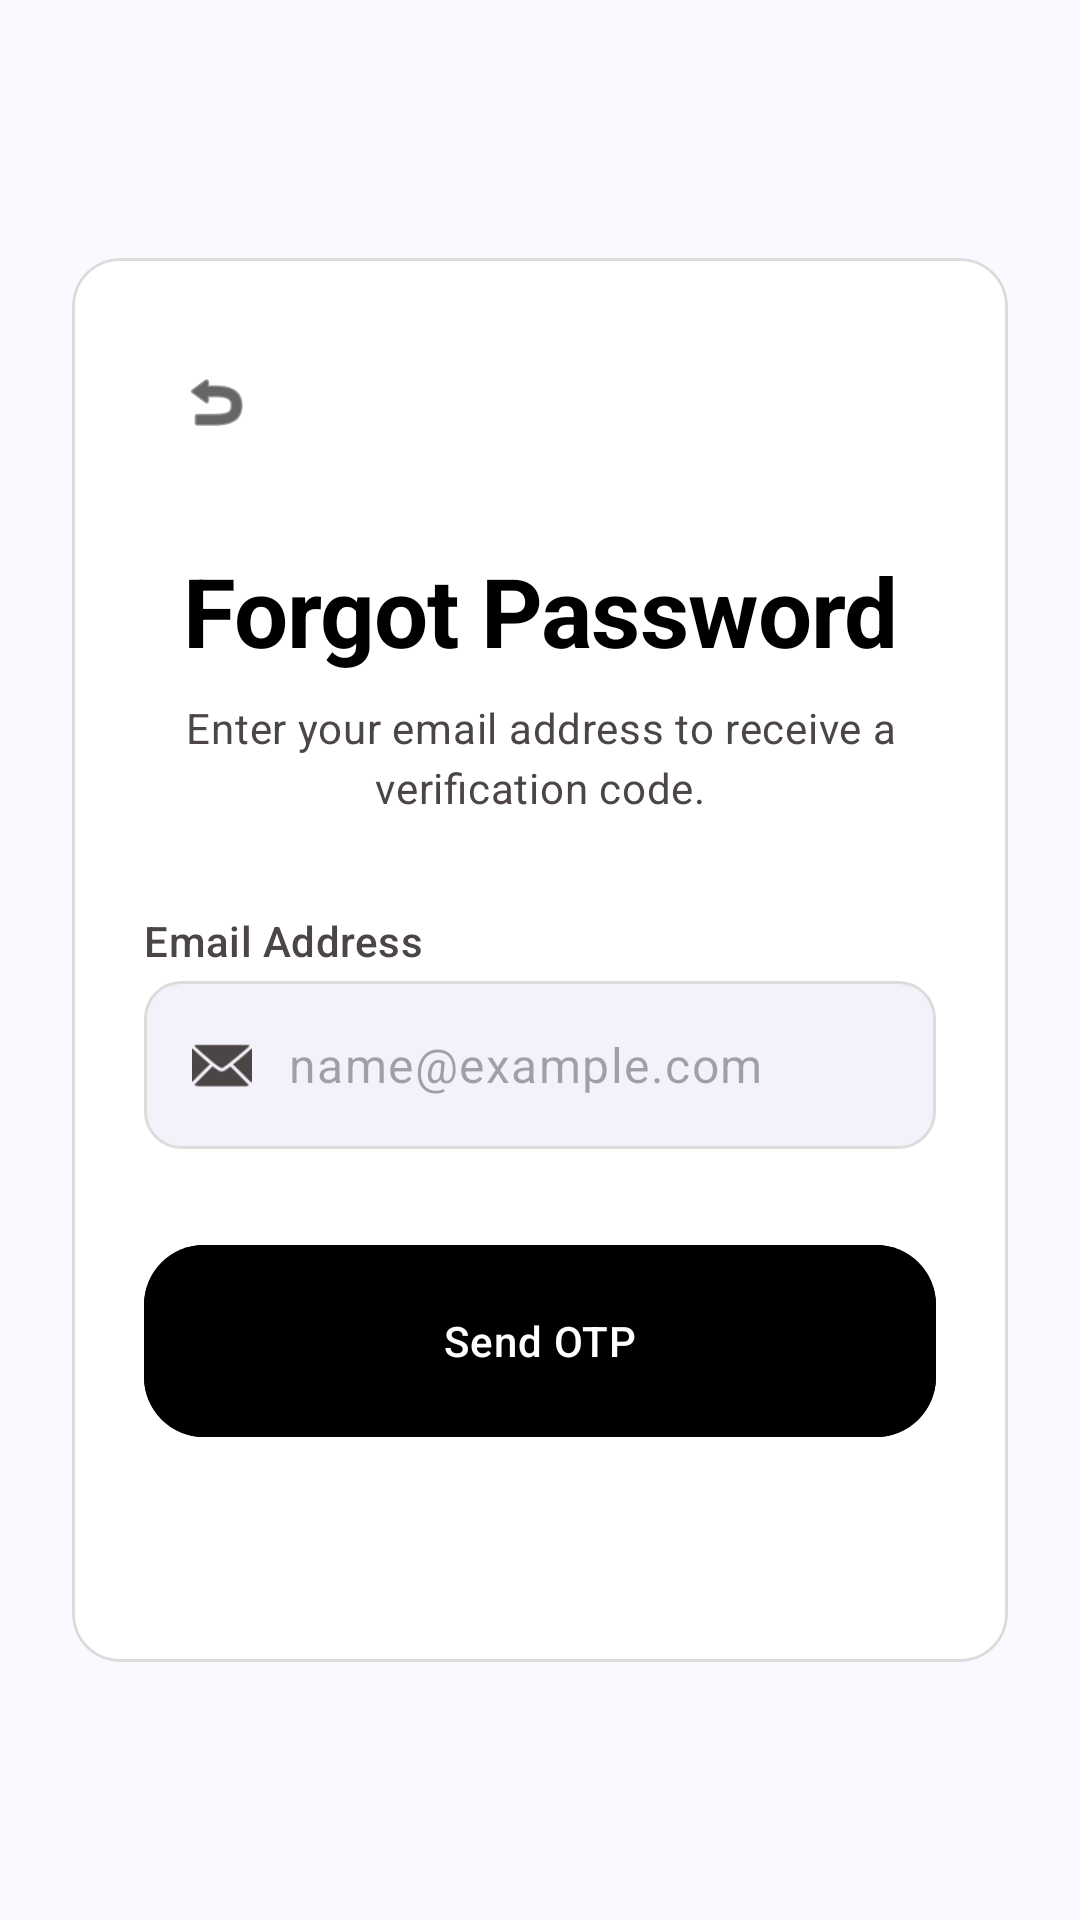

Point at icon controls on the screen. Image size 1080×1920, points as (x,y).
revert: (217,402)
